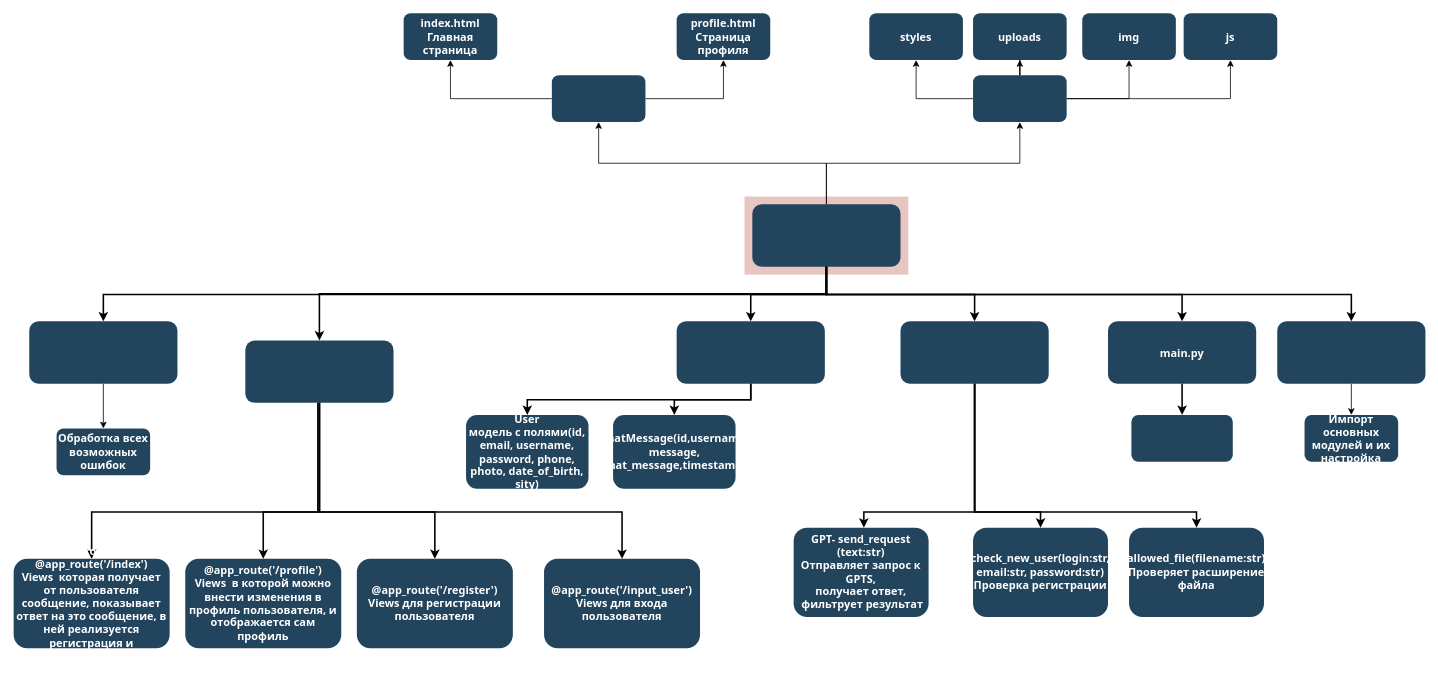
Some shapes in this 1438 by 676 pixel diagram are drawn without their labels. Each missing label, with the box of its shape:
app.py: (1277, 321, 1425, 383)
business_logic.py: (900, 321, 1048, 383)
controller.py: (245, 340, 393, 402)
errors.py: (29, 321, 177, 383)
models.py: (676, 321, 824, 383)
STAR_POWER: (752, 204, 900, 266)
static: (973, 75, 1066, 122)
templates: (551, 75, 645, 122)
Запуск проекта: (1131, 415, 1232, 461)
